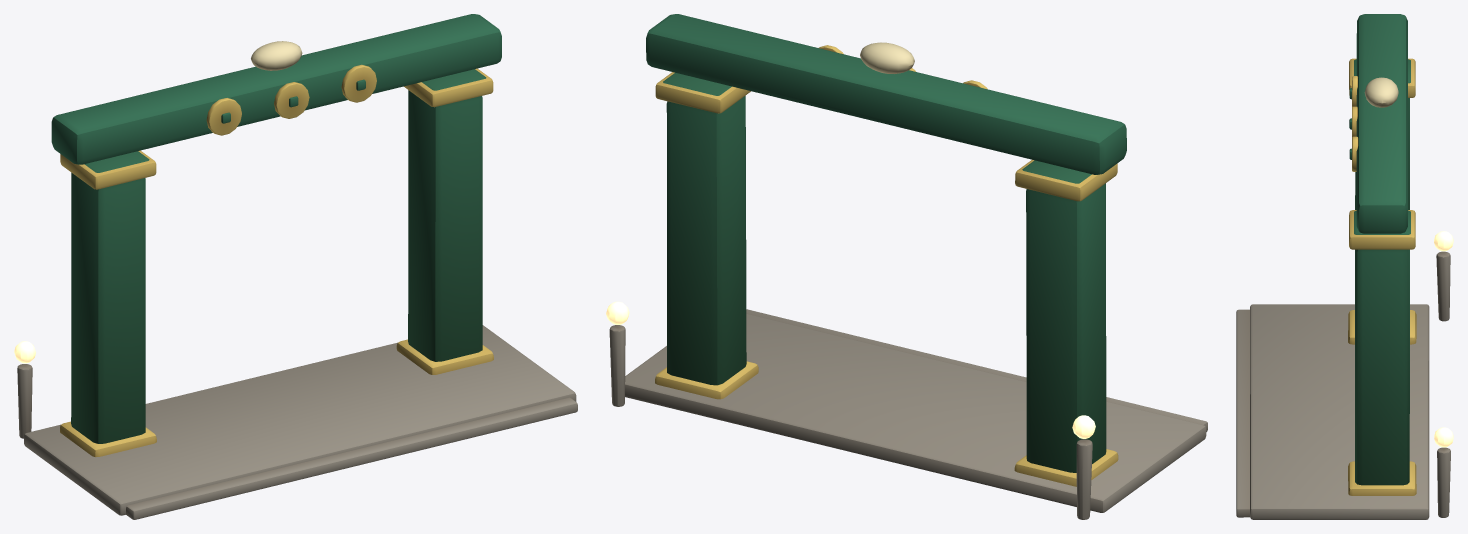
3 renders of one model, left to right at view 1: azimuth 30°, elevation 25°; view 2: azimuth 150°, elevation 25°; view 3: azimuth 270°, elevation 25°, orthographic. The views are drawn at different scales.
Parts seen in each view (by area): view 1: gate_a9627f4a; view 2: gate_a9627f4a; view 3: gate_a9627f4a.
Boxes of the visible parts, x1,y1,x2,y2 form: gate_a9627f4a: (14, 14, 577, 519); gate_a9627f4a: (606, 14, 1207, 519); gate_a9627f4a: (1236, 14, 1453, 519).
Size of the model in its own units: 5.7 by 4.35 by 2.55.
